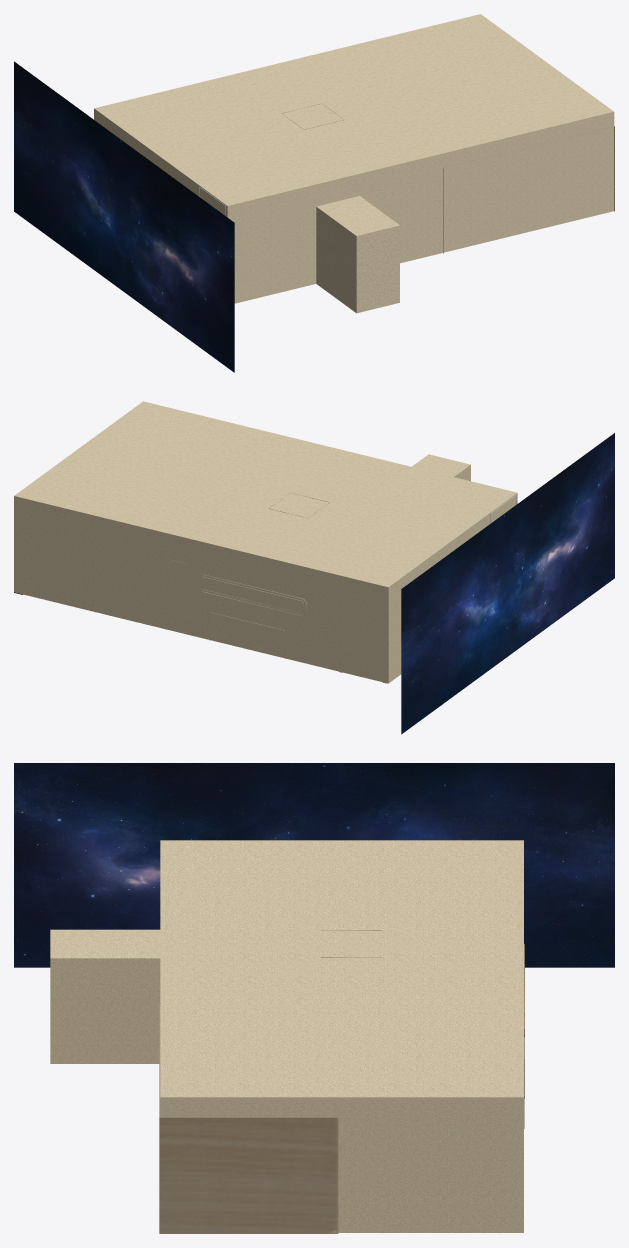
Rendered from ts_nwsi001.FBX.
3 views of the same model, one above another, from view 1: azimuth 30°, elevation 25°; view 2: azimuth 150°, elevation 25°; view 3: azimuth 270°, elevation 25° (orthographic). The views are drawn at different scales.
Visible parts, largest first — view 1: ts_yxkcqb001, ts_yxkcwj001; view 2: ts_yxkcqb001, ts_yxkcwj001; view 3: ts_yxkcqb001, ts_yxkcwj001, ts_yxkc063.
Part boxes in pixels (x1,y1,x2,y2): ts_yxkcqb001: (94,14,614,313); ts_yxkcwj001: (14,61,234,372); ts_yxkcqb001: (14,401,517,683); ts_yxkcwj001: (401,433,614,734); ts_yxkcqb001: (50,840,523,1232); ts_yxkcwj001: (14,763,614,967); ts_yxkc063: (159,1003,524,1233).
Bounding box in the file's own units: 14.99 × 4.96 × 13.2.
